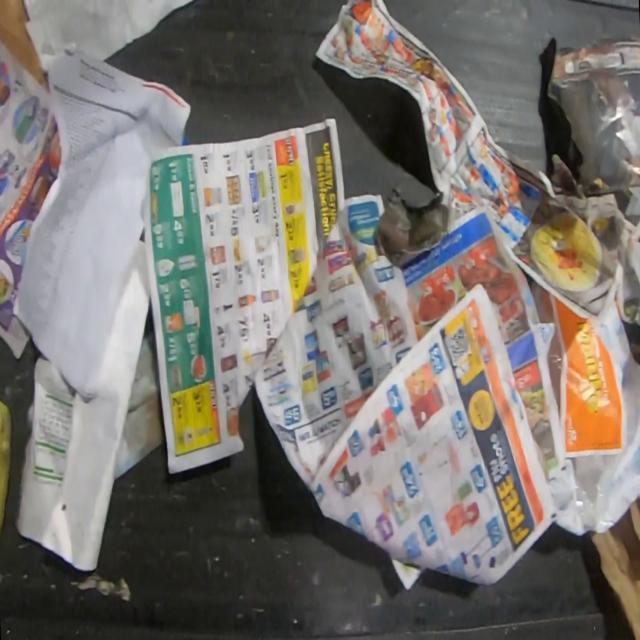cardboard: (595, 497, 639, 639), (0, 1, 49, 93)
soft_plastic: (571, 457, 604, 534), (626, 237, 640, 285)
